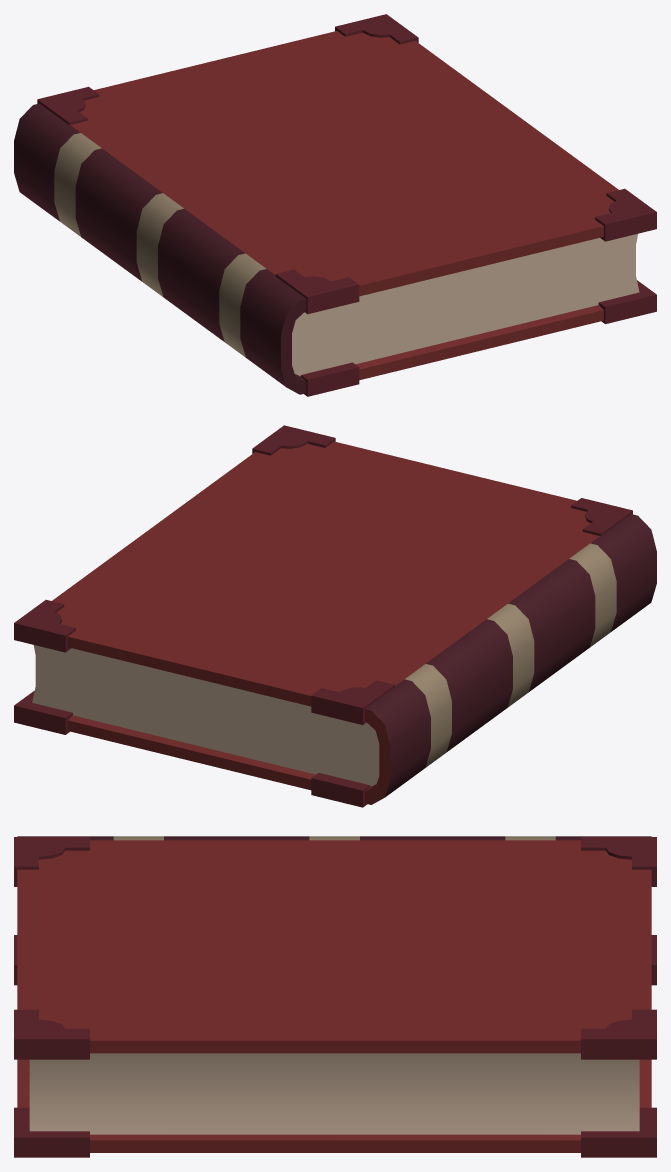
The model's file is Book_04.fbx.
3 views of the same model, one above another, from view 1: azimuth 30°, elevation 25°; view 2: azimuth 150°, elevation 25°; view 3: azimuth 270°, elevation 25° (orthographic). The views are drawn at different scales.
Parts seen in each view (by area): view 1: Book_04; view 2: Book_04; view 3: Book_04.
Part boxes in pixels (bbox=[...]): Book_04: bbox=[14, 14, 656, 396]; Book_04: bbox=[14, 425, 656, 807]; Book_04: bbox=[14, 836, 656, 1157].
Size of the model in its own units: 0.2621 by 0.0666 by 0.3277.
